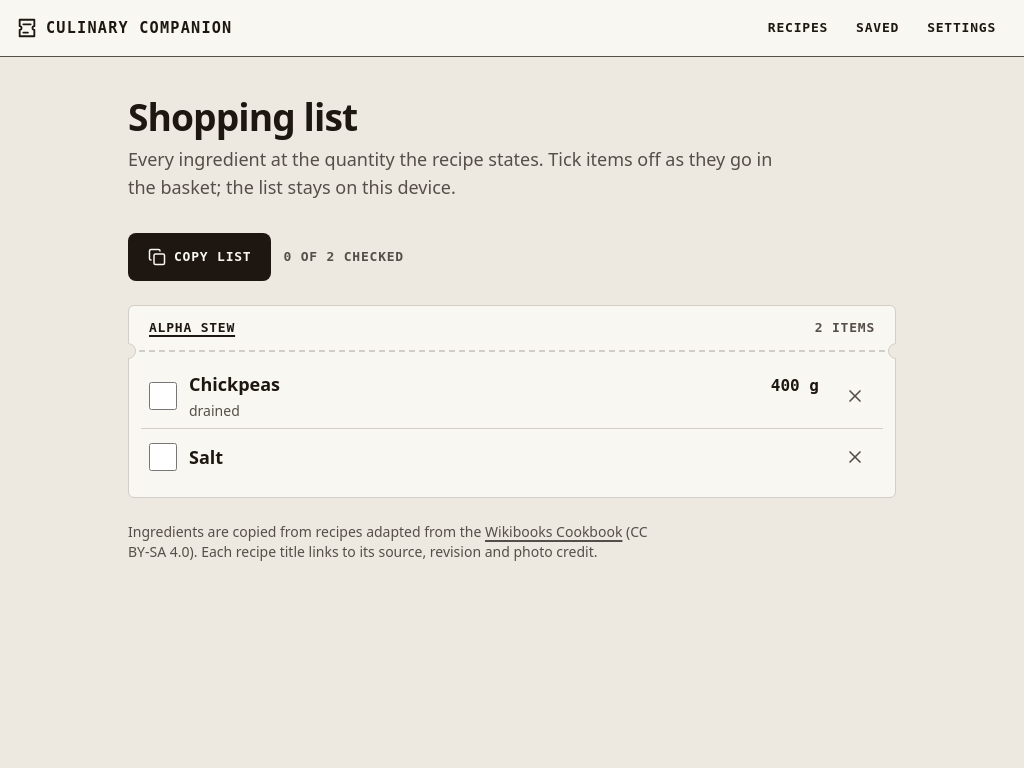
Test: ShoppingListScreen › removes one item, persists it, and moves keyboard focus to the next row
Click the button named "Remove Chickpeas, 400 g from the shopping list".
click(855, 396)  # box [827,364,883,428]
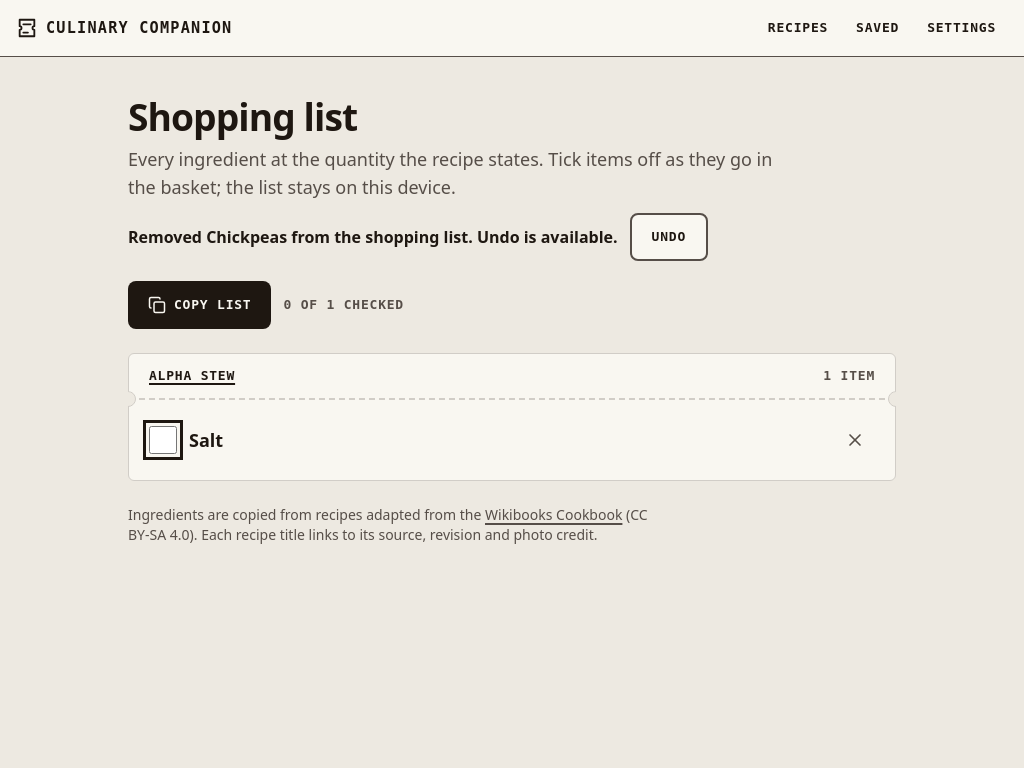
Result: the message reads "Removed Chickpeas from the shopping list. Undo is available." at [128,226,618,248]
